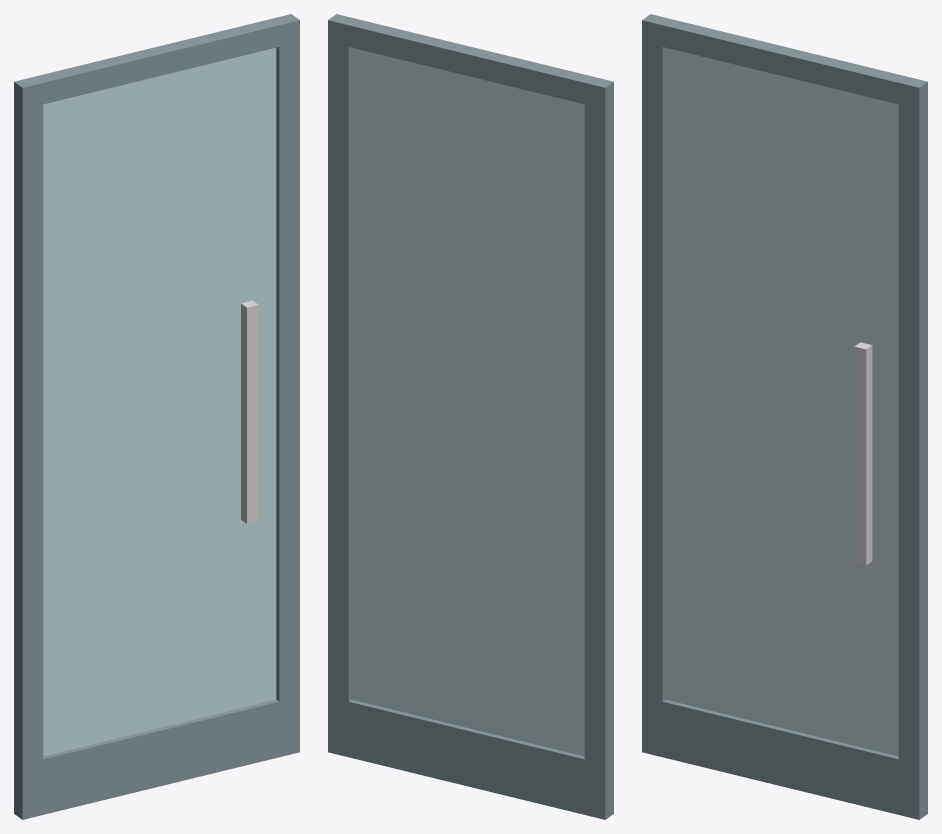
File: door_leaf_shop.glb
The picture shows the model from 3 angles, left to right: view 1: azimuth 30°, elevation 25°; view 2: azimuth 150°, elevation 25°; view 3: azimuth 330°, elevation 25°; orthographic projection.
Parts seen in each view (by area): view 1: door_leaf_shop_glass, door_leaf_shop_frame2, door_leaf_shop_metal; view 2: door_leaf_shop_glass, door_leaf_shop_frame2; view 3: door_leaf_shop_glass, door_leaf_shop_frame2, door_leaf_shop_metal.
Part boxes in pixels (<box>): door_leaf_shop_glass: <box>43,48,276,756</box>; door_leaf_shop_frame2: <box>14,14,299,819</box>; door_leaf_shop_metal: <box>241,300,258,523</box>; door_leaf_shop_glass: <box>351,48,584,756</box>; door_leaf_shop_frame2: <box>328,14,613,819</box>; door_leaf_shop_glass: <box>665,48,898,756</box>; door_leaf_shop_frame2: <box>642,14,927,819</box>; door_leaf_shop_metal: <box>854,342,872,565</box>.
Bounding box in the file's own units: 0.94 × 2.37 × 0.085.
